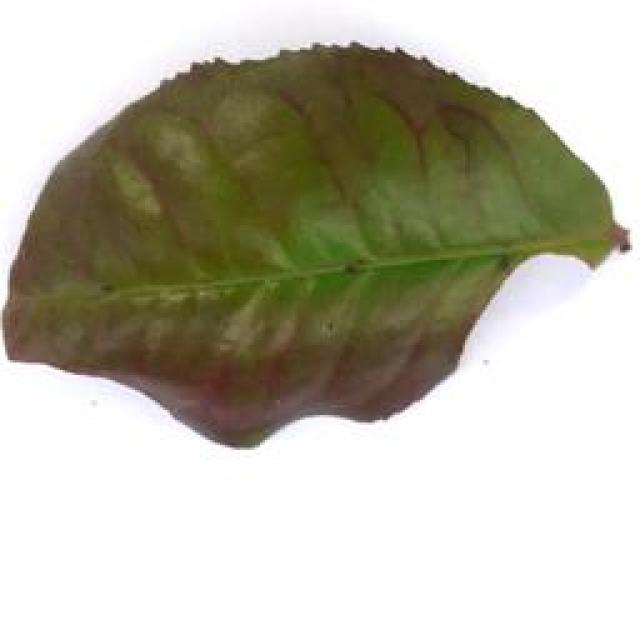Red Leaf Spot: (0, 12, 630, 455)
